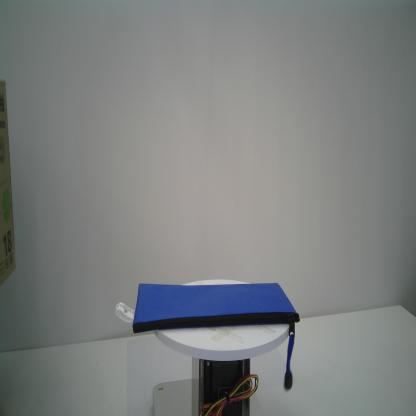Stationery: (113, 279, 301, 395)
